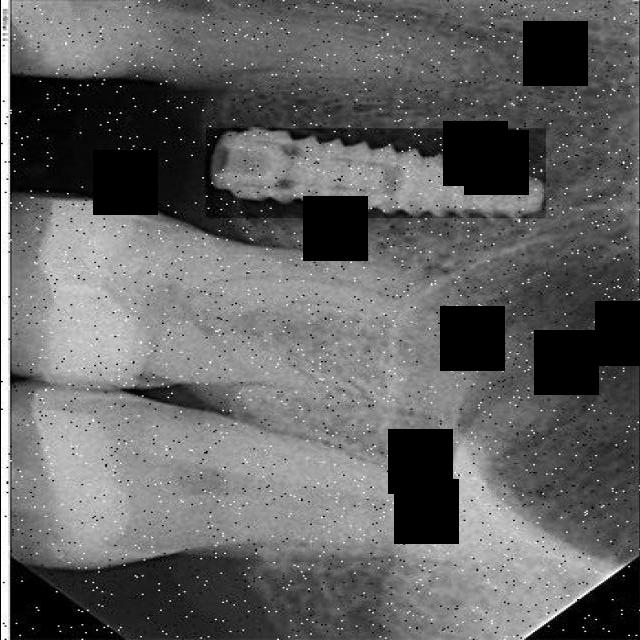Osstem Implant: (201, 121, 548, 232)
